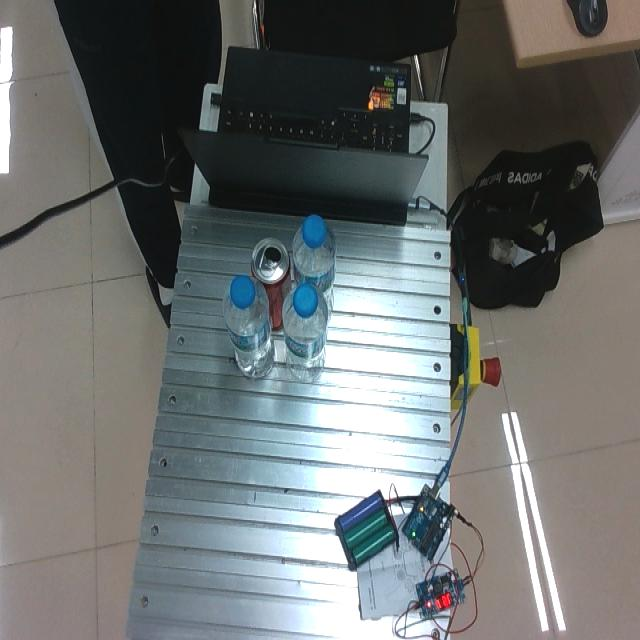coca: (251, 237, 291, 332)
lavie: (224, 275, 275, 380), (282, 282, 330, 382), (292, 216, 337, 315)
